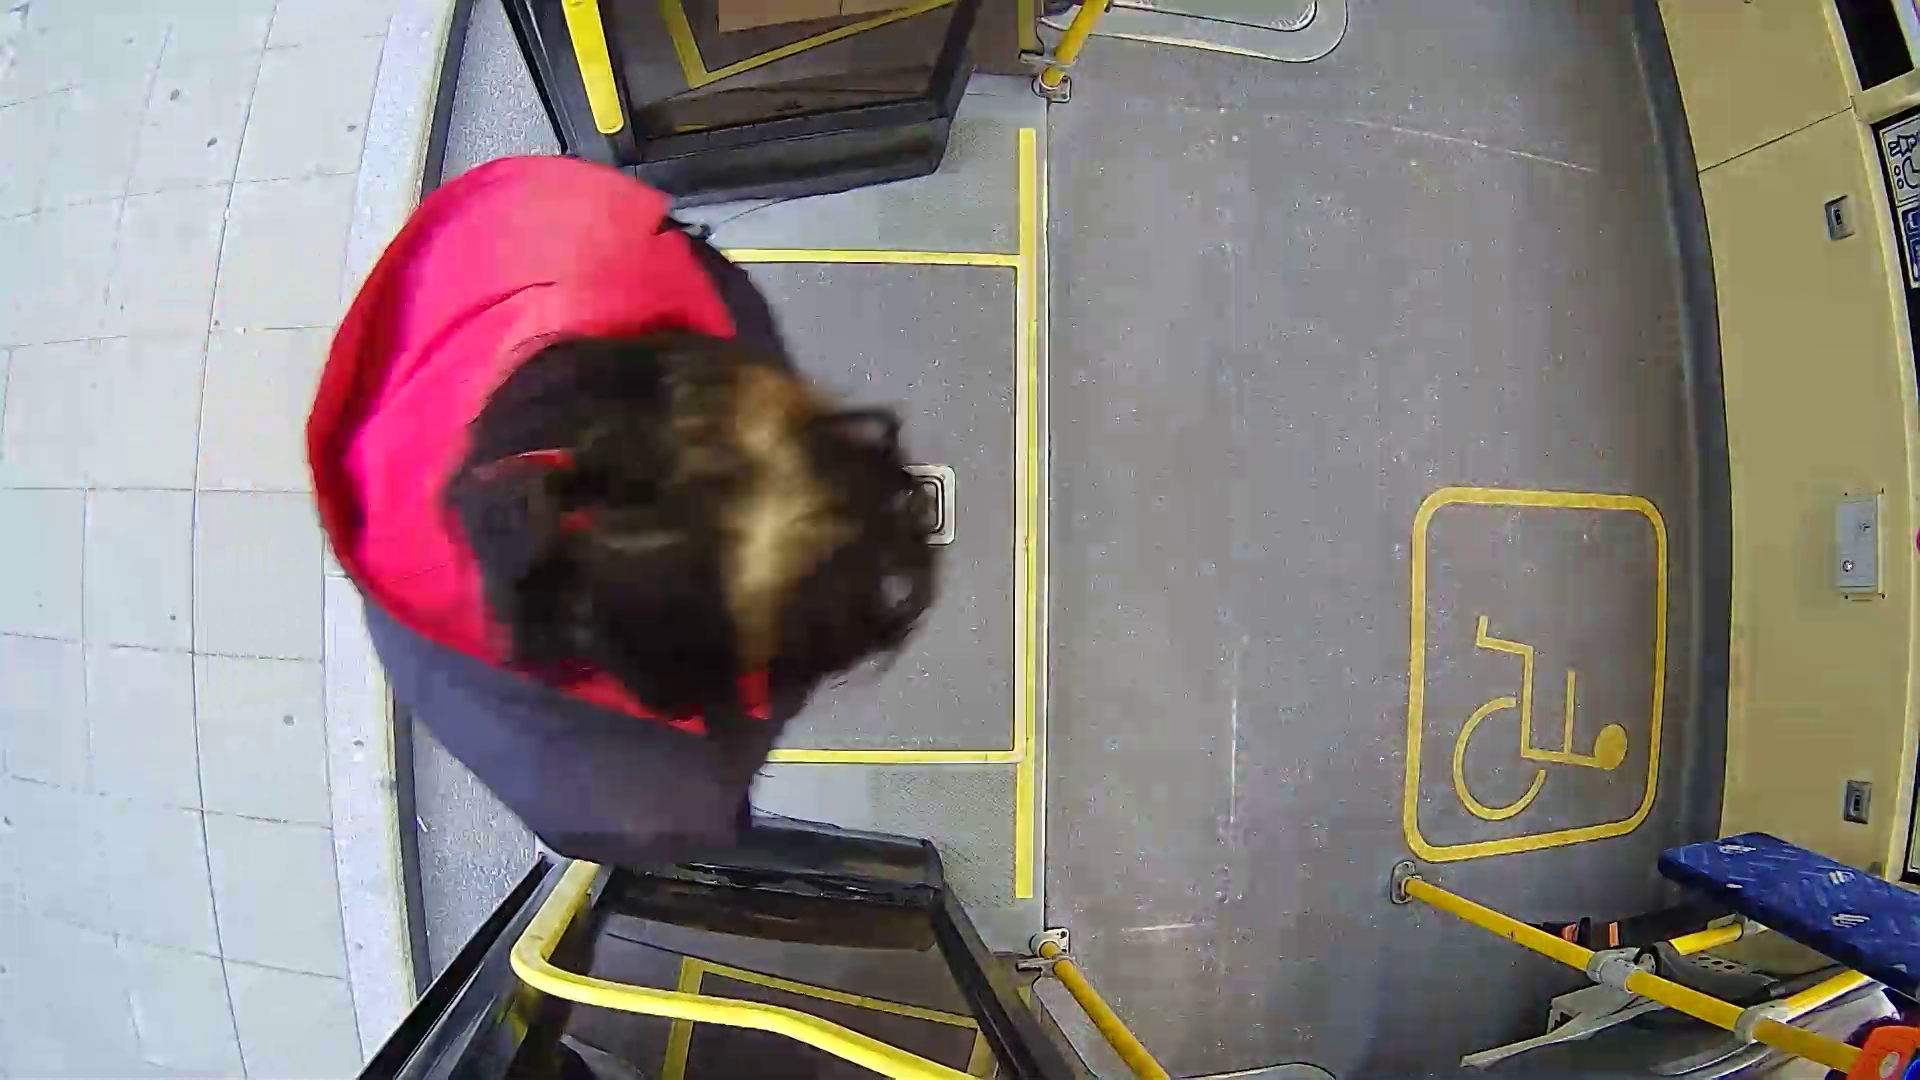person: (256, 173, 995, 876)
